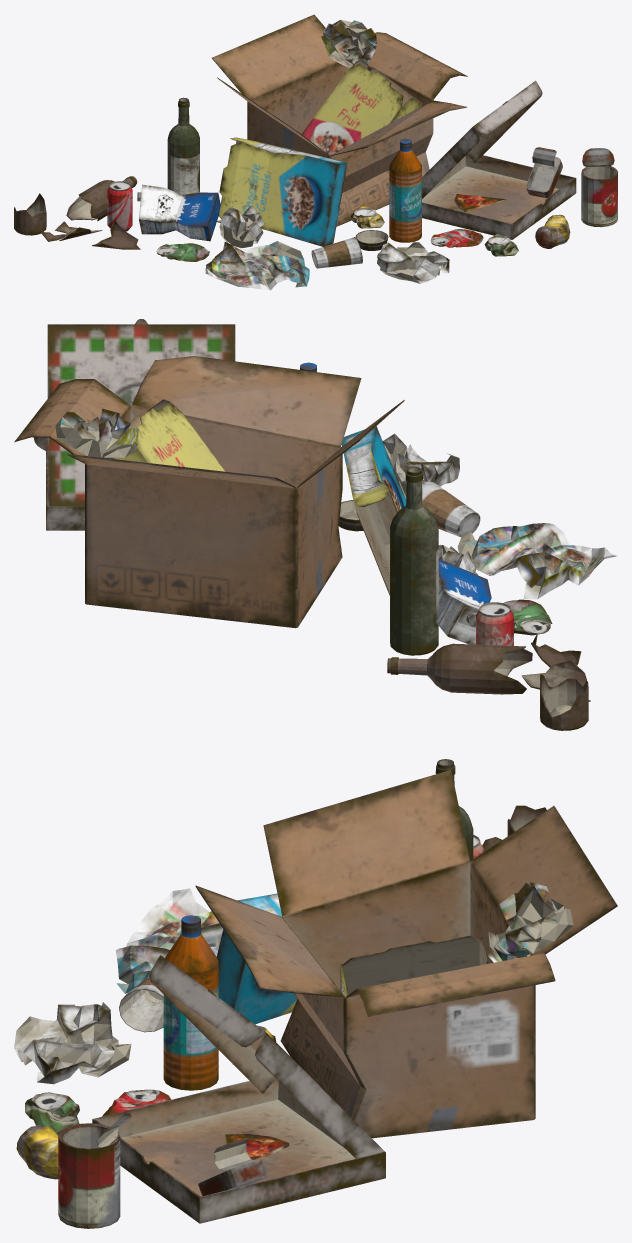
Rendered from SUOJKN8Q63GMYVDT199HRO471.fbx.
The picture shows the model from 3 angles, top to bottom: view 1: azimuth 30°, elevation 25°; view 2: azimuth 150°, elevation 25°; view 3: azimuth 270°, elevation 25°; orthographic projection. The views are drawn at different scales.
Visible parts, largest first — view 1: Object_TexMap_0; view 2: Object_TexMap_0; view 3: Object_TexMap_0.
Boxes of the visible parts, x1=… form: Object_TexMap_0: x1=14, y1=14, x2=617, y2=290; Object_TexMap_0: x1=14, y1=319, x2=616, y2=730; Object_TexMap_0: x1=14, y1=759, x2=617, y2=1228.
Size of the model in its own units: 2.5 by 0.7129 by 1.66.
1 material, 1 textured.
